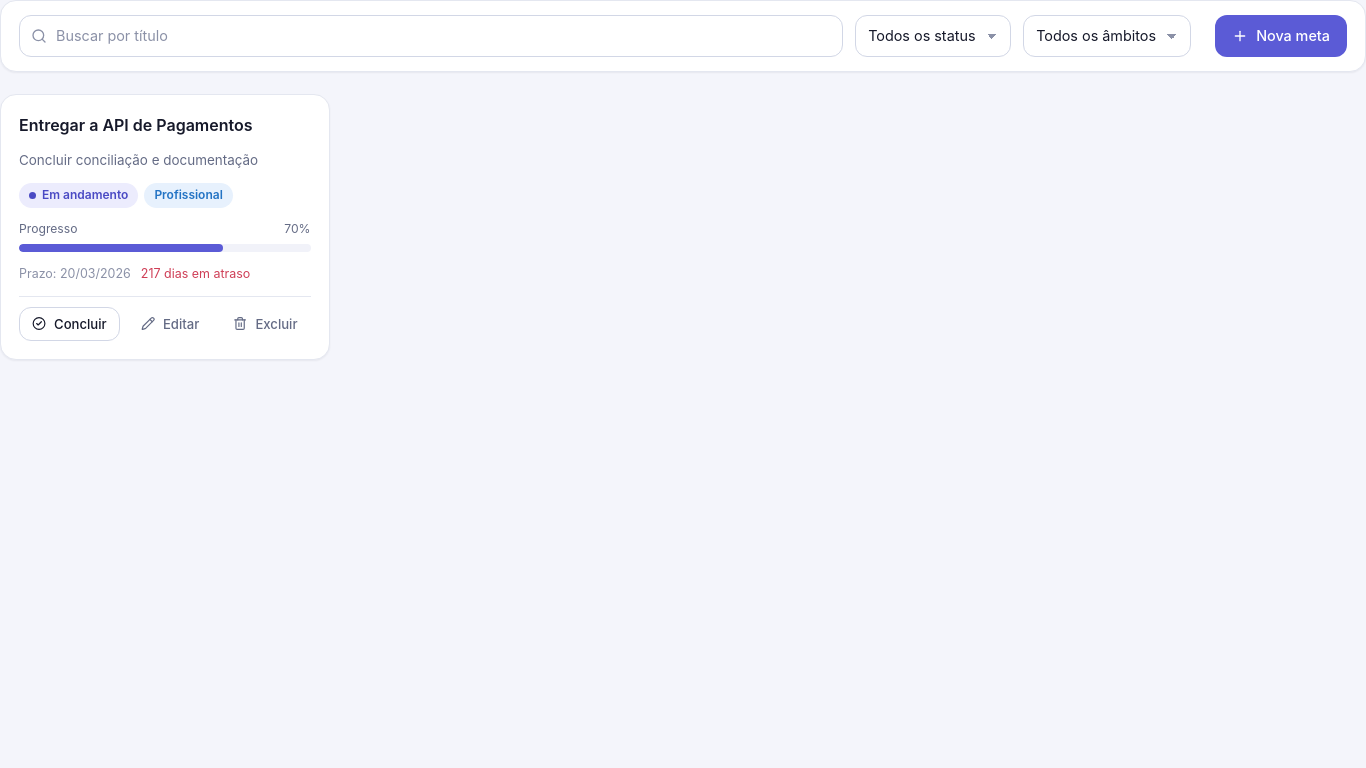
it: GoalsPage › impede o envio quando o progresso está fora de 0 a 100
Expected: the text "Entregar a API de Pagamentos" is shown, [19,115,252,135]
Click the button "Nova meta" at x=1281, y=36, box [1215,15,1347,57]
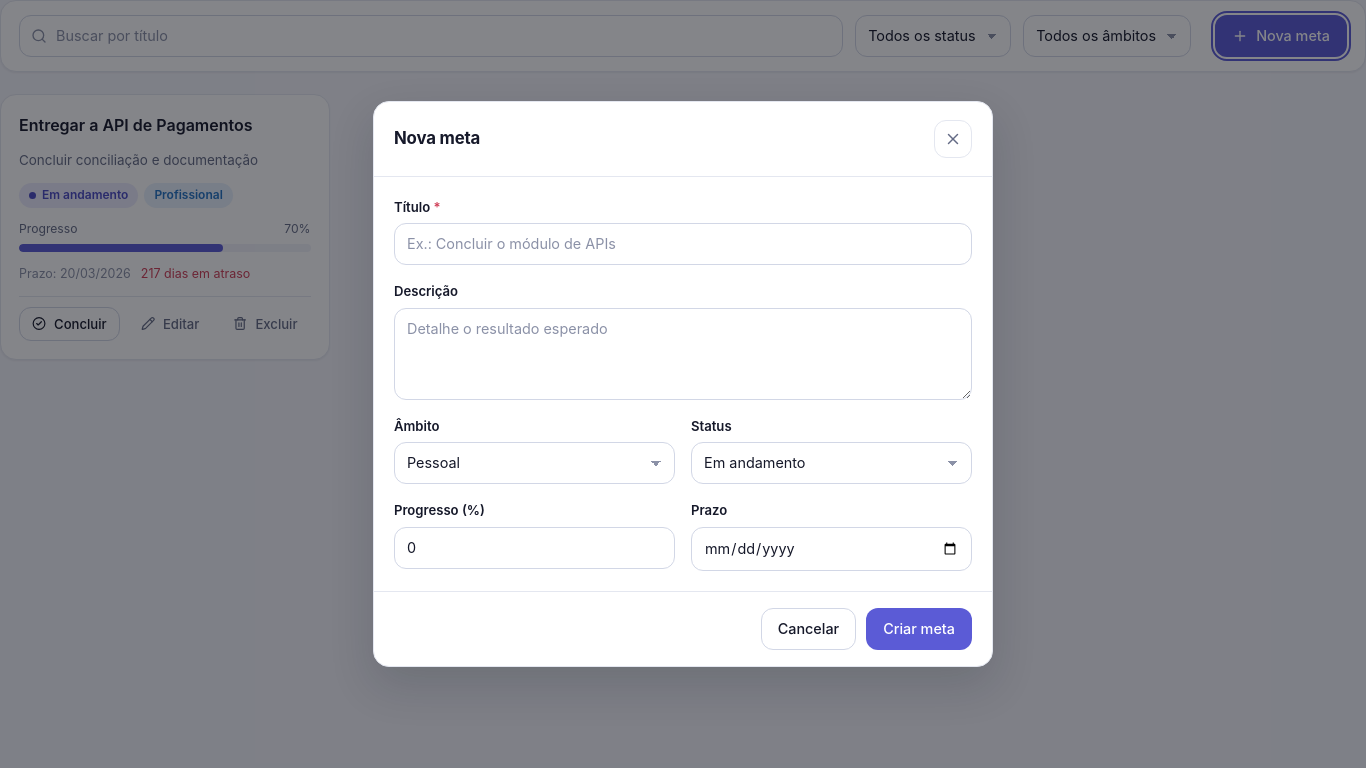
Type "Meta inválida" into the field labelled "Título *" at x=683, y=244, box [394,223,972,265]
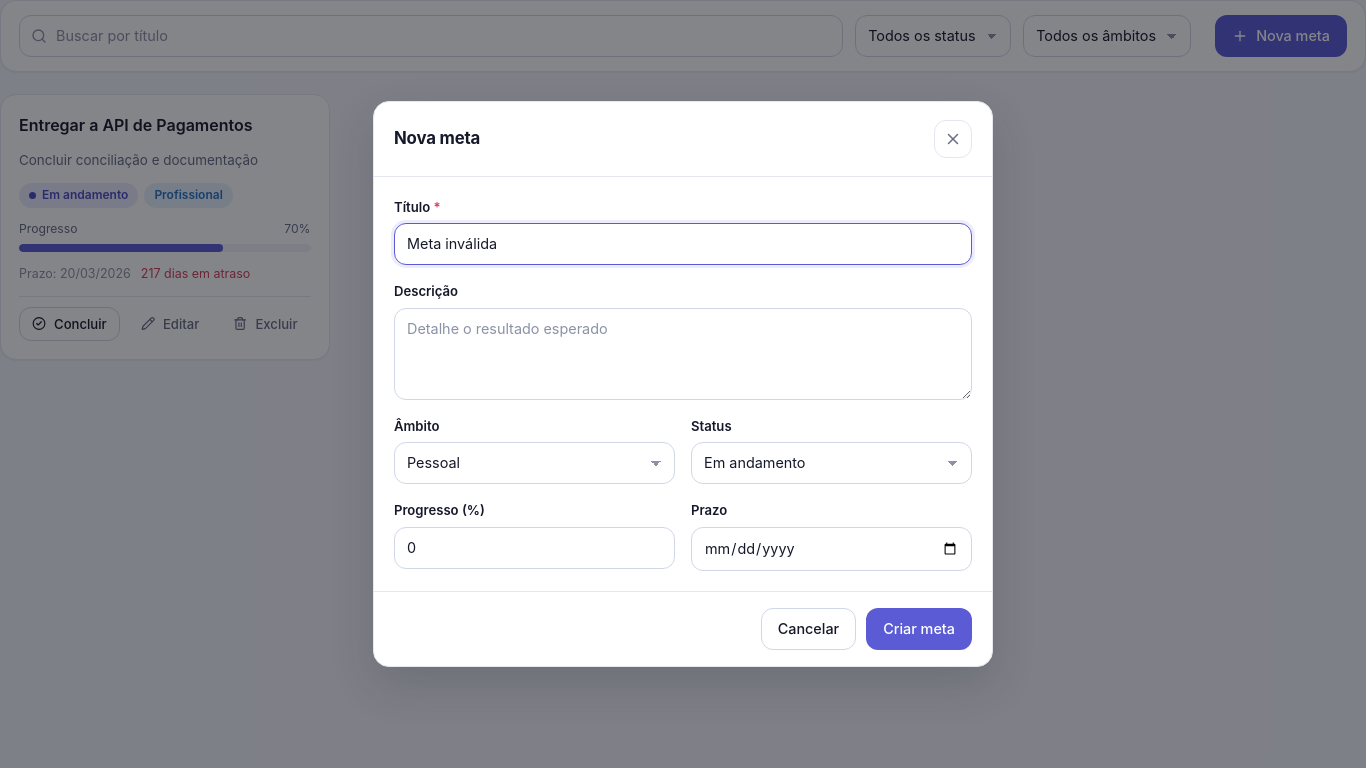
Replace the text in the number field labelled "Progresso (%)" with "250" at x=534, y=548, box [394,527,675,569]
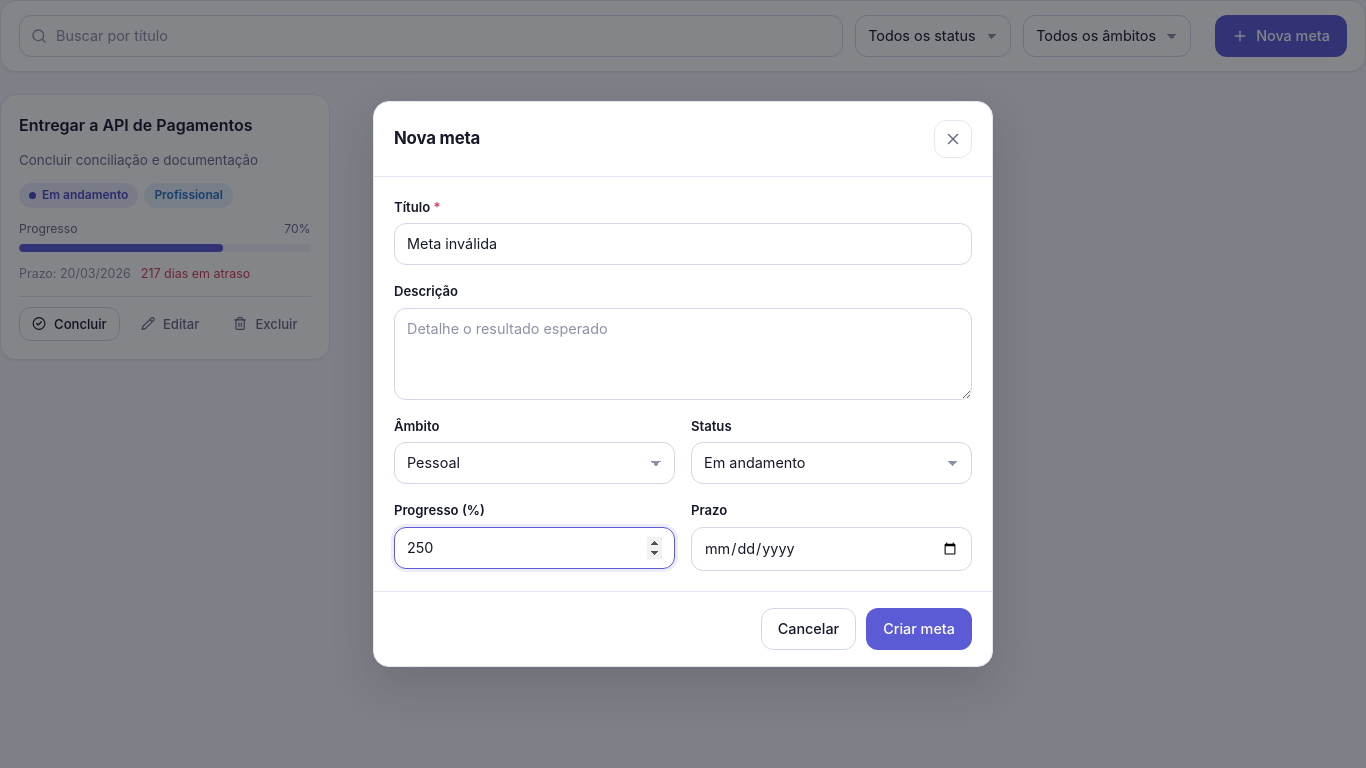
Click the button "Criar meta" at x=919, y=629, box [866,608,972,650]
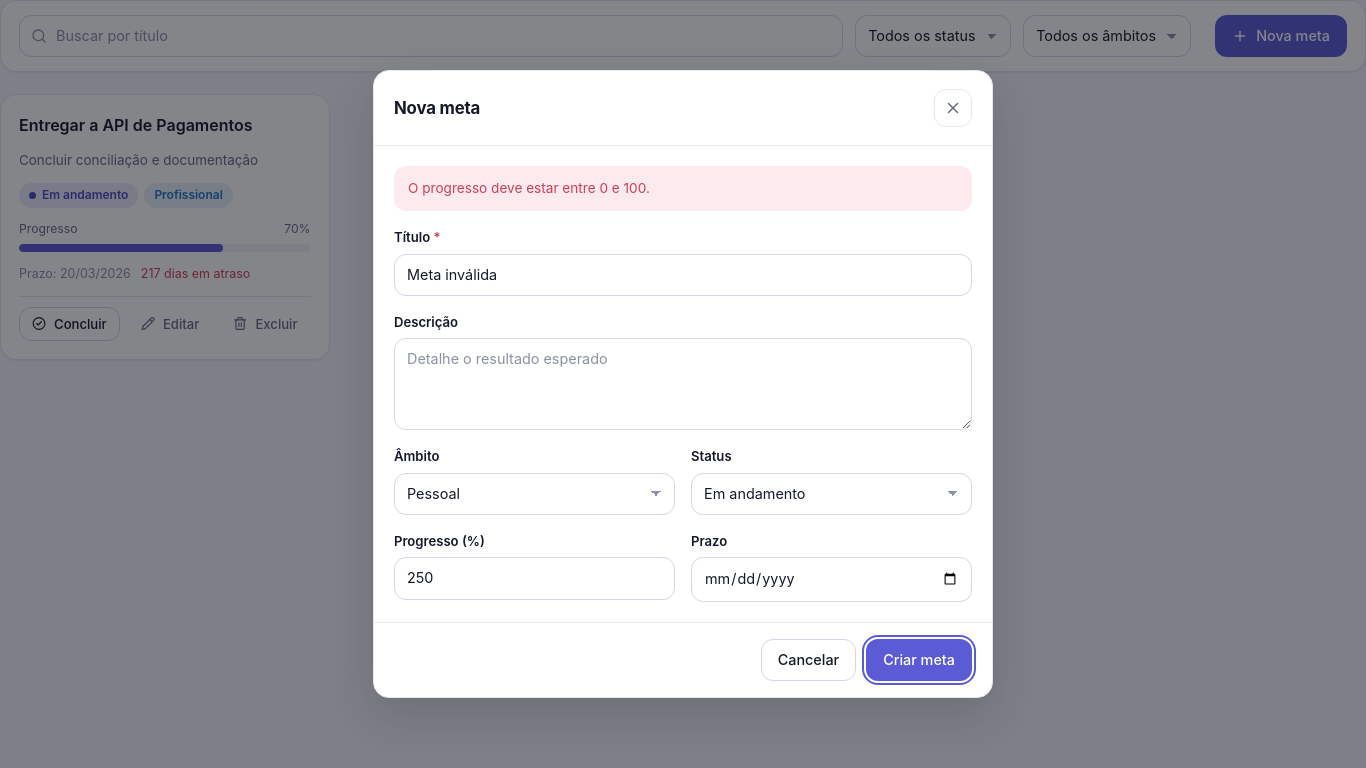
Now the text "O progresso deve estar entre 0 e 100." is shown, box [394,166,972,211]
